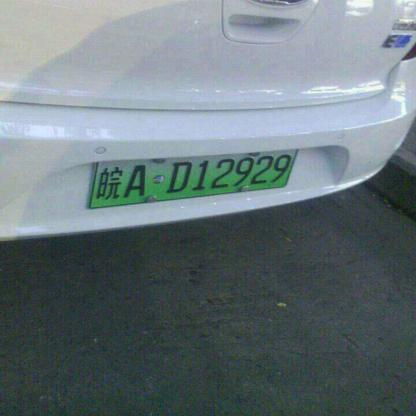lp: (89, 148, 299, 206)
